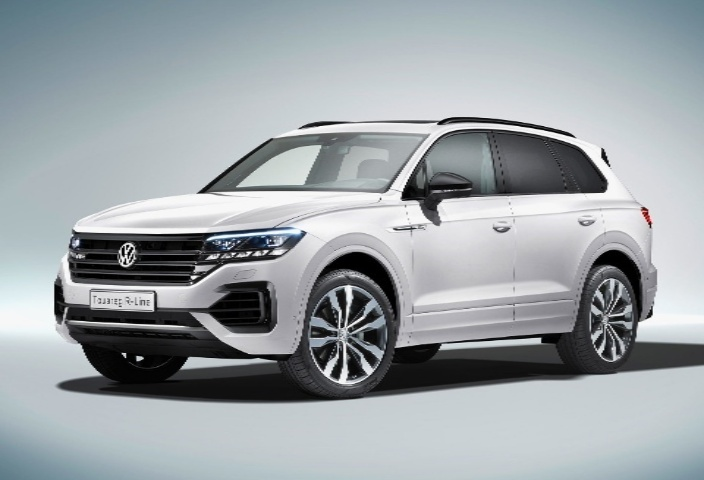camper: (14, 99, 671, 413)
